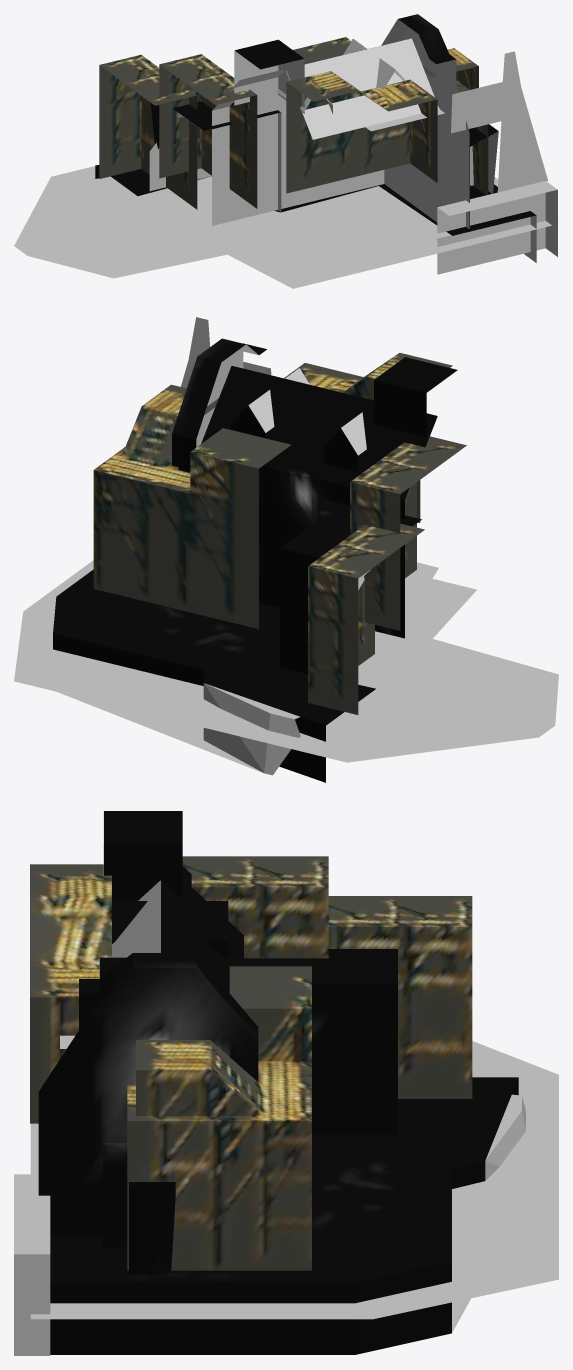
Rendered from T_Barrack_01.fbx.
3 views of the same model, one above another, from view 1: azimuth 30°, elevation 25°; view 2: azimuth 150°, elevation 25°; view 3: azimuth 270°, elevation 25° (orthographic). The views are drawn at different scales.
Parts seen in each view (by area): view 1: T_Barrack_01, T_BuildForm_03, T_BuildForm_02 (1), T_BuildForm_02 (2), FX_Territory_NightGlow, T_BuildForm_01; view 2: FX_Territory_NightGlow, T_Barrack_01, T_BuildForm_01, T_BuildForm_02 (2), T_BuildForm_02 (1), T_BuildForm_03; view 3: FX_Territory_NightGlow, T_BuildForm_01, T_Barrack_01, T_BuildForm_02 (2), T_BuildForm_03, T_BuildForm_02 (1).
Boxes of the visible parts, <box> form: T_Barrack_01: <box>14,19,558,288</box>; T_BuildForm_03: <box>286,71,437,193</box>; T_BuildForm_02 (1): <box>159,54,257,208</box>; T_BuildForm_02 (2): <box>99,55,197,209</box>; FX_Territory_NightGlow: <box>95,14,536,235</box>; T_BuildForm_01: <box>293,37,488,194</box>; FX_Territory_NightGlow: <box>53,338,457,782</box>; T_Barrack_01: <box>14,317,558,775</box>; T_BuildForm_01: <box>93,384,291,628</box>; T_BuildForm_02 (2): <box>308,523,424,714</box>; T_BuildForm_02 (1): <box>350,436,466,630</box>; T_BuildForm_03: <box>284,353,452,522</box>; FX_Territory_NightGlow: <box>38,811,518,1354</box>; T_BuildForm_01: <box>127,966,311,1270</box>; T_Barrack_01: <box>14,811,558,1355</box>; T_BuildForm_02 (2): <box>328,896,472,1098</box>; T_BuildForm_03: <box>30,864,111,1123</box>; T_BuildForm_02 (1): <box>182,856,328,958</box>.
Size of the model in its own units: 10.29 by 5.42 by 7.47.
